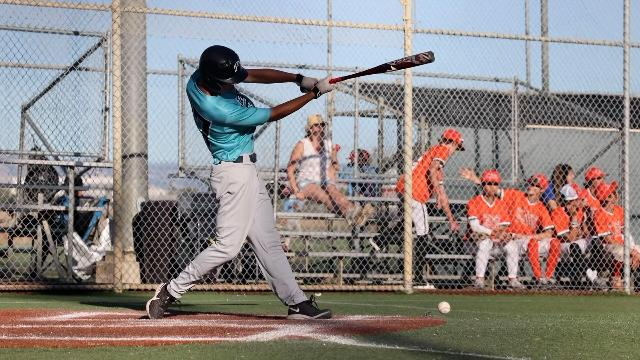ball: (438, 301, 450, 315)
bat: (329, 50, 436, 84)
